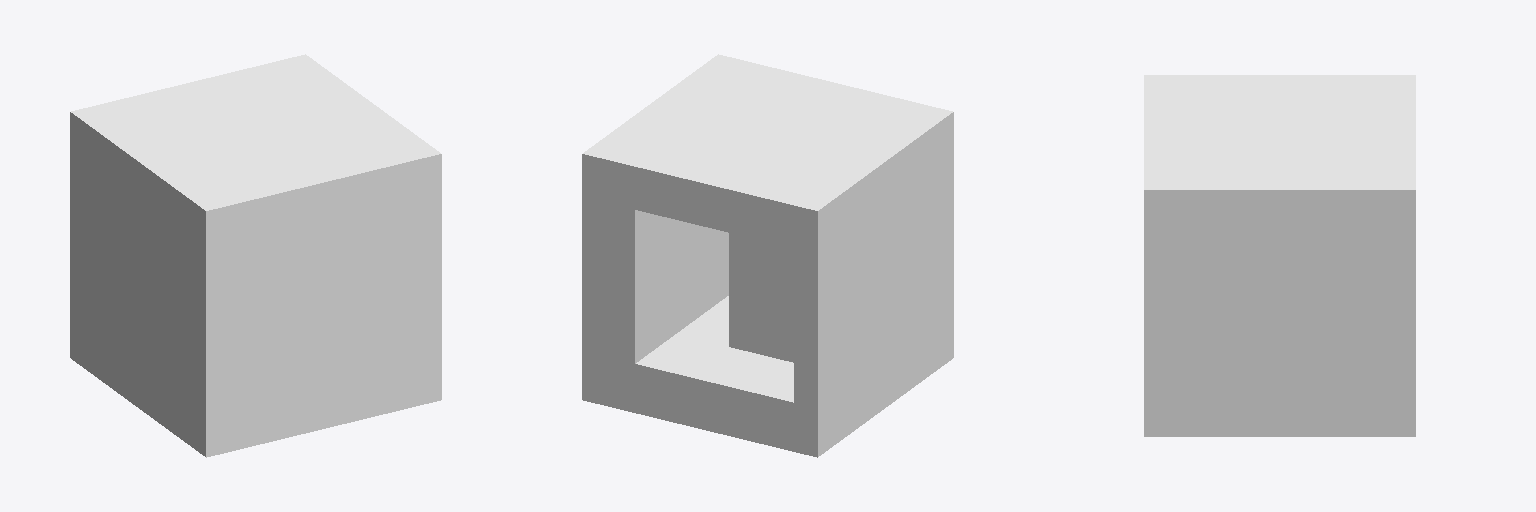
File: Pump.obj
3 renders of one model, left to right at view 1: azimuth 30°, elevation 25°; view 2: azimuth 150°, elevation 25°; view 3: azimuth 270°, elevation 25°, orthographic.
Visible parts, largest first — view 1: object 1; view 2: object 1; view 3: object 1.
Part boxes in pixels (x1,y1,x2,y2): object 1: (70,54,441,457); object 1: (582,54,953,457); object 1: (1144,75,1415,436).
Size of the model in its own units: 4 by 4 by 4.